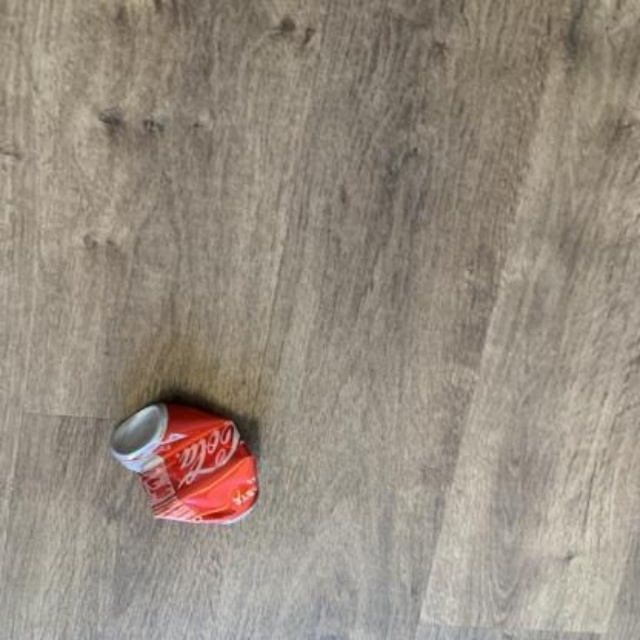trash: (109, 403, 257, 522)
